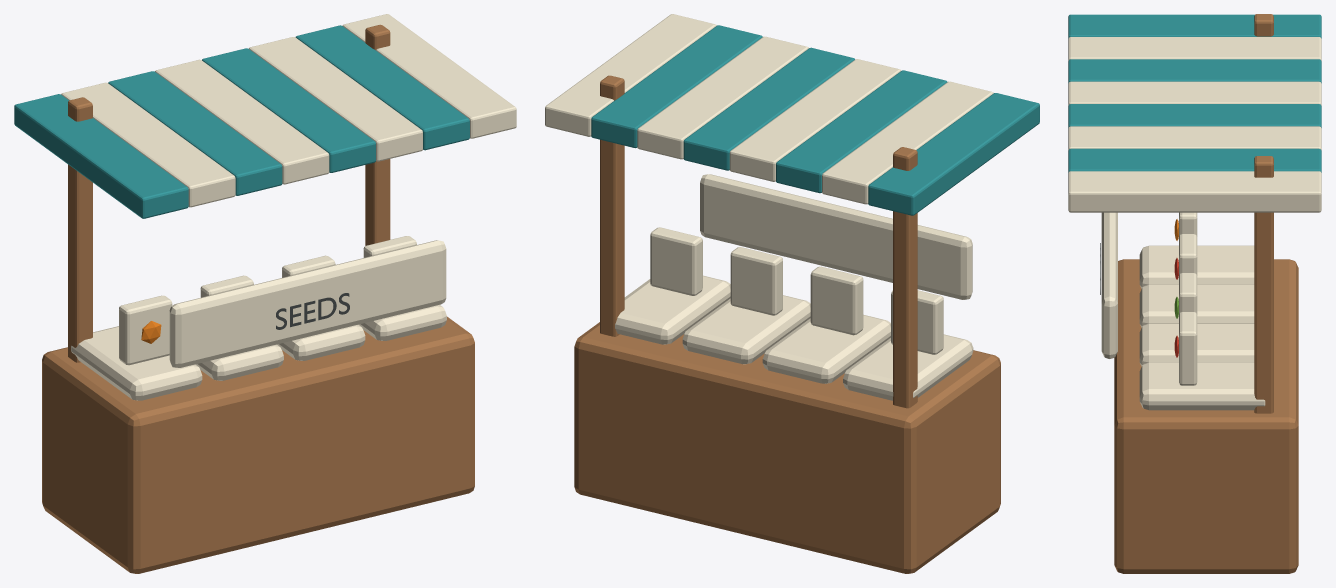
Rendered from seed-stall.glb.
3 renders of one model, left to right at view 1: azimuth 30°, elevation 25°; view 2: azimuth 150°, elevation 25°; view 3: azimuth 270°, elevation 25°, orthographic. The views are drawn at different scales.
Visible parts, largest first — view 1: stall_base, sign_board, stall_awning_panel, stall_awning_panel.002, stall_awning_panel.003, stall_awning_panel.005, stall_awning_panel.004, stall_awning_panel.006, stall_awning_panel.001, stall_awning_panel.007, stall_post, stall_tray (+8 smaller); view 2: stall_base, sign_board, stall_awning_panel, stall_awning_panel.005, stall_awning_panel.004, stall_awning_panel.003, stall_awning_panel.006, stall_awning_panel.002, stall_awning_panel.001, stall_awning_panel.007, stall_post, stall_post.001 (+8 smaller); view 3: stall_base, stall_awning_panel.007, stall_awning_panel.005, stall_awning_panel.001, stall_awning_panel.002, stall_awning_panel.003, stall_awning_panel.004, stall_awning_panel.006, stall_awning_panel, stall_tray.003, stall_post.001, stall_tray.001 (+8 smaller).
Part boxes in pixels (x1=…): stall_base: x1=42, y1=316, x2=474, y2=573; sign_board: x1=169, y1=240, x2=446, y2=367; stall_awning_panel: x1=14, y1=94, x2=188, y2=218; stall_awning_panel.002: x1=108, y1=71, x2=282, y2=195; stall_awning_panel.003: x1=155, y1=59, x2=329, y2=184; stall_awning_panel.005: x1=249, y1=37, x2=422, y2=161; stall_awning_panel.004: x1=202, y1=48, x2=375, y2=172; stall_awning_panel.006: x1=295, y1=25, x2=469, y2=150; stall_awning_panel.001: x1=61, y1=82, x2=235, y2=207; stall_awning_panel.007: x1=342, y1=14, x2=516, y2=138; stall_post: x1=68, y1=97, x2=92, y2=362; stall_tray: x1=71, y1=326, x2=202, y2=400; stall_base: x1=574, y1=322, x2=1000, y2=573; sign_board: x1=700, y1=174, x2=972, y2=299; stall_awning_panel: x1=868, y1=93, x2=1039, y2=215; stall_awning_panel.005: x1=637, y1=36, x2=808, y2=159; stall_awning_panel.004: x1=683, y1=47, x2=854, y2=170; stall_awning_panel.003: x1=729, y1=59, x2=901, y2=181; stall_awning_panel.006: x1=591, y1=25, x2=762, y2=148; stall_awning_panel.002: x1=776, y1=70, x2=947, y2=193; stall_awning_panel.001: x1=822, y1=81, x2=993, y2=204; stall_awning_panel.007: x1=545, y1=14, x2=716, y2=136; stall_post: x1=893, y1=147, x2=917, y2=408; stall_post.001: x1=600, y1=75, x2=624, y2=336; stall_base: x1=1114, y1=259, x2=1298, y2=573; stall_awning_panel.007: x1=1068, y1=171, x2=1321, y2=212; stall_awning_panel.005: x1=1068, y1=126, x2=1321, y2=150; stall_awning_panel.001: x1=1068, y1=37, x2=1321, y2=60; stall_awning_panel.002: x1=1068, y1=59, x2=1321, y2=83; stall_awning_panel.003: x1=1068, y1=81, x2=1321, y2=105; stall_awning_panel.004: x1=1068, y1=104, x2=1321, y2=127; stall_awning_panel.006: x1=1068, y1=148, x2=1321, y2=172; stall_awning_panel: x1=1068, y1=14, x2=1321, y2=38; stall_tray.003: x1=1139, y1=362, x2=1265, y2=410; stall_post.001: x1=1254, y1=156, x2=1273, y2=413; stall_tray.001: x1=1139, y1=284, x2=1254, y2=327.
Size of the model in its own units: 1.84 by 1.95 by 1.1.
